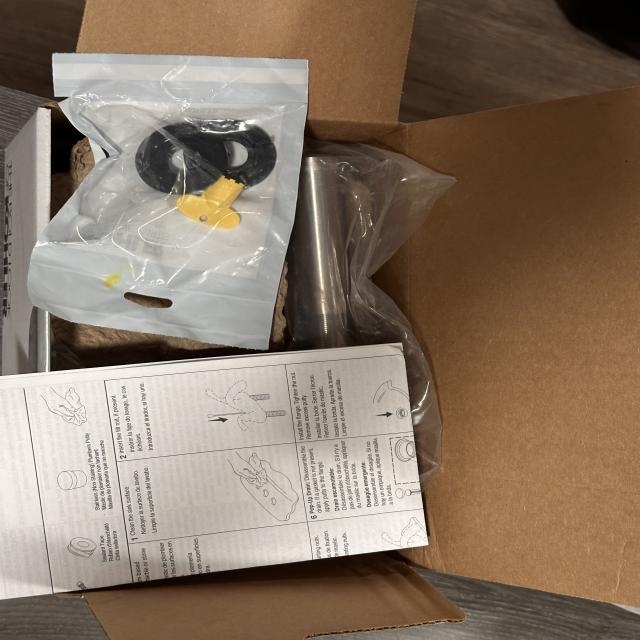11o: (285, 138, 455, 489)
12: (28, 53, 308, 350)
8: (1, 343, 427, 599)
